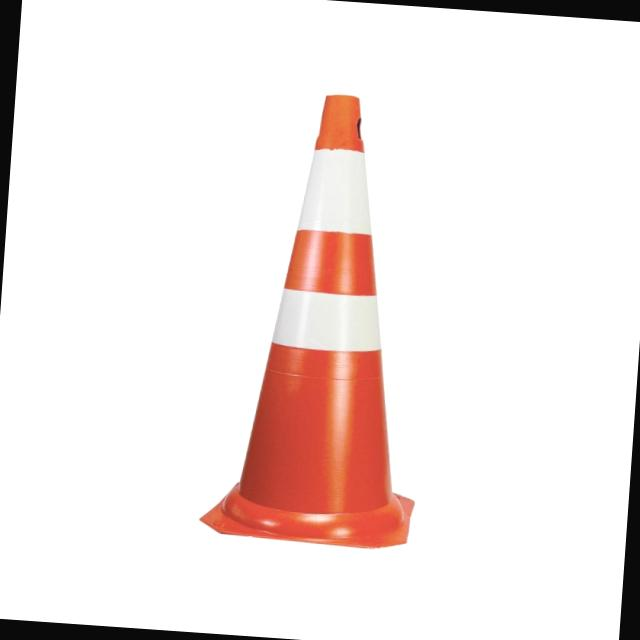cone: (164, 41, 474, 571)
